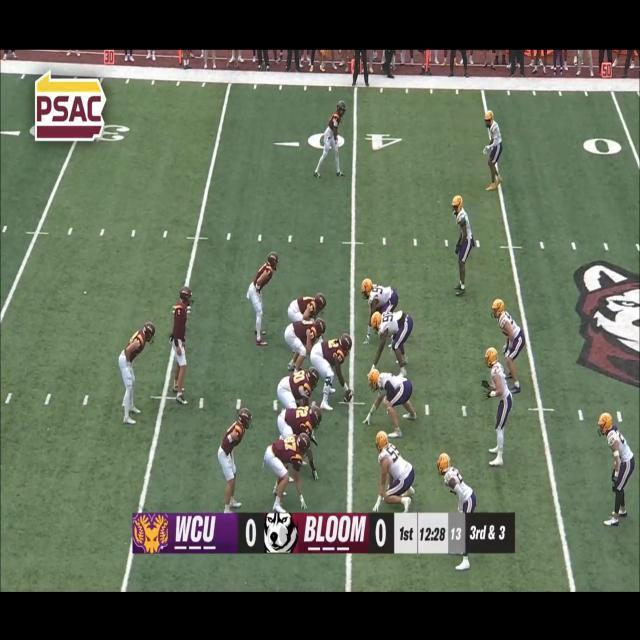football: (343, 386, 357, 406)
